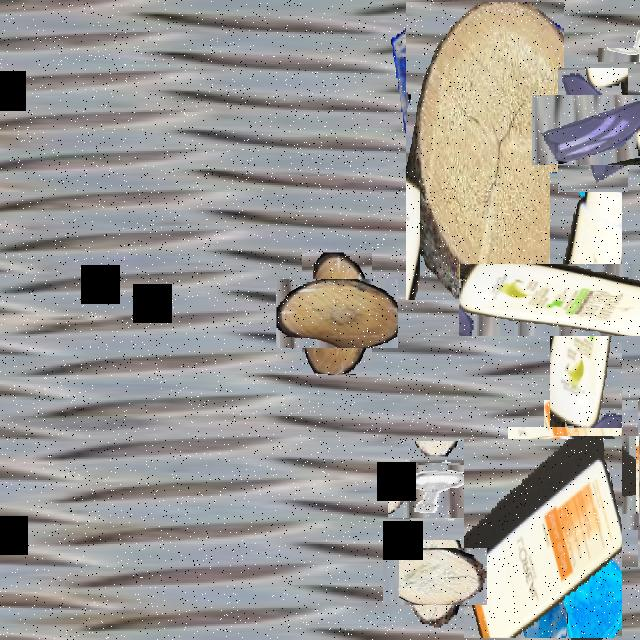glass: (391, 2, 483, 165), (525, 418, 640, 548), (544, 81, 640, 178), (496, 438, 580, 522)
metal: (452, 177, 532, 257), (399, 452, 477, 529), (611, 34, 640, 75)
plastic: (464, 439, 622, 638), (504, 218, 640, 382)
wood: (406, 2, 564, 300), (289, 265, 385, 361), (394, 536, 476, 616)
